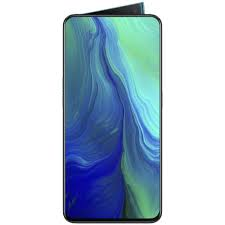oppo: (58, 12, 166, 223)
